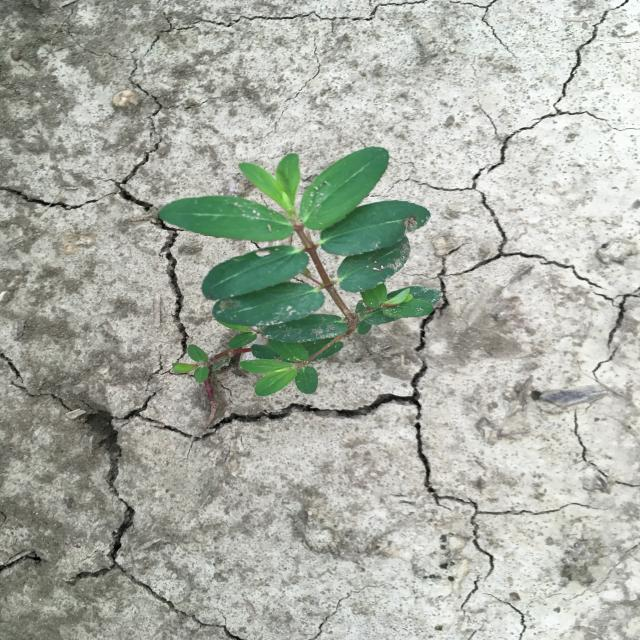SpottedSpurge: (158, 146, 445, 396)
